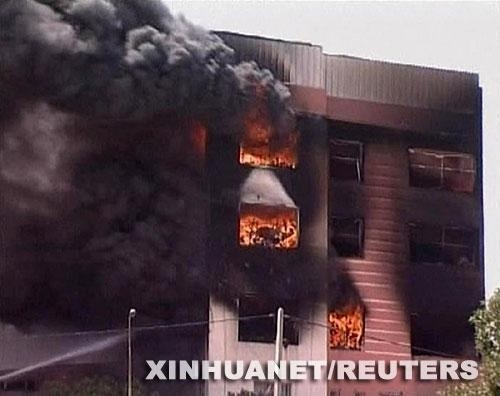fire: (238, 120, 299, 168), (238, 208, 299, 248), (327, 304, 365, 348)
